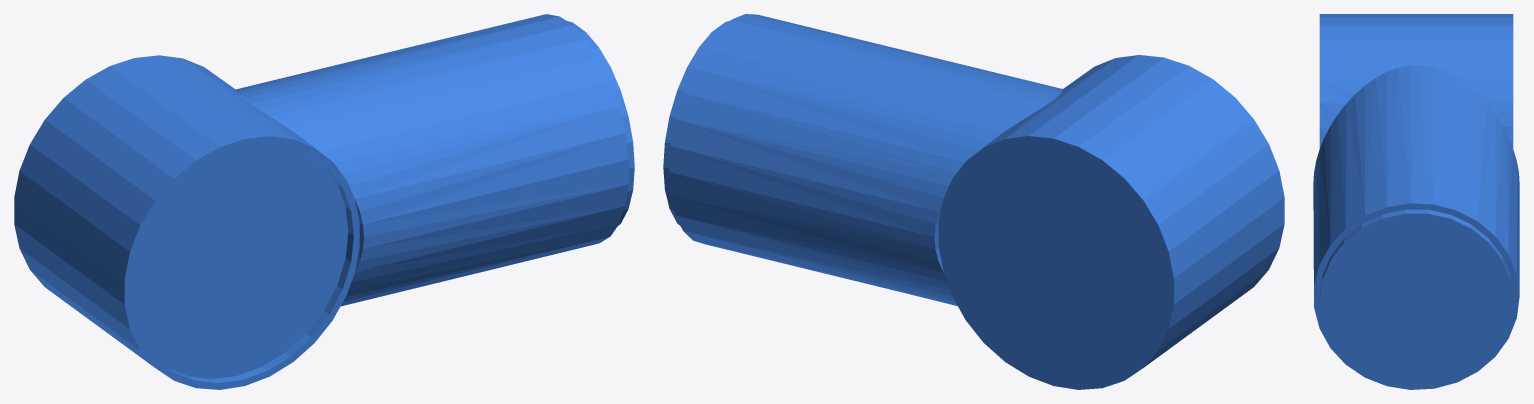
File: wrist_flex_link.dae
3 views of the same model, side by side, from view 1: azimuth 30°, elevation 25°; view 2: azimuth 150°, elevation 25°; view 3: azimuth 270°, elevation 25° (orthographic). The views are drawn at different scales.
Parts seen in each view (by area): view 1: wrist_flex_link; view 2: wrist_flex_link; view 3: wrist_flex_link.
Part boxes in pixels (bbox=[...]): wrist_flex_link: bbox=[14, 14, 634, 389]; wrist_flex_link: bbox=[663, 14, 1284, 389]; wrist_flex_link: bbox=[1313, 14, 1519, 389].
Size of the model in its own units: 0.1598 by 0.064 by 0.074.
